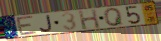3: (61, 11, 77, 32)
5: (124, 5, 142, 25)
E: (15, 14, 39, 37)
H: (77, 8, 102, 31)
J: (39, 14, 54, 33)
Q: (102, 7, 125, 27)
